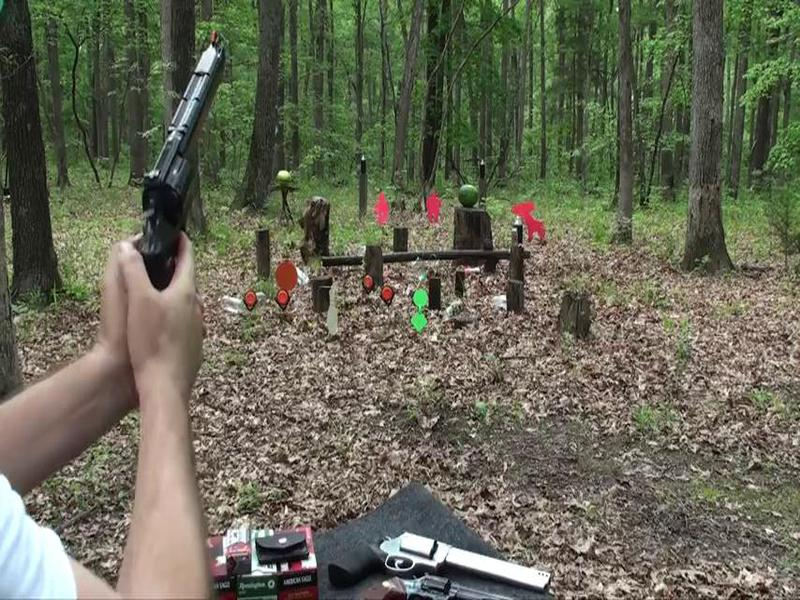Revolver: (132, 23, 236, 292)
